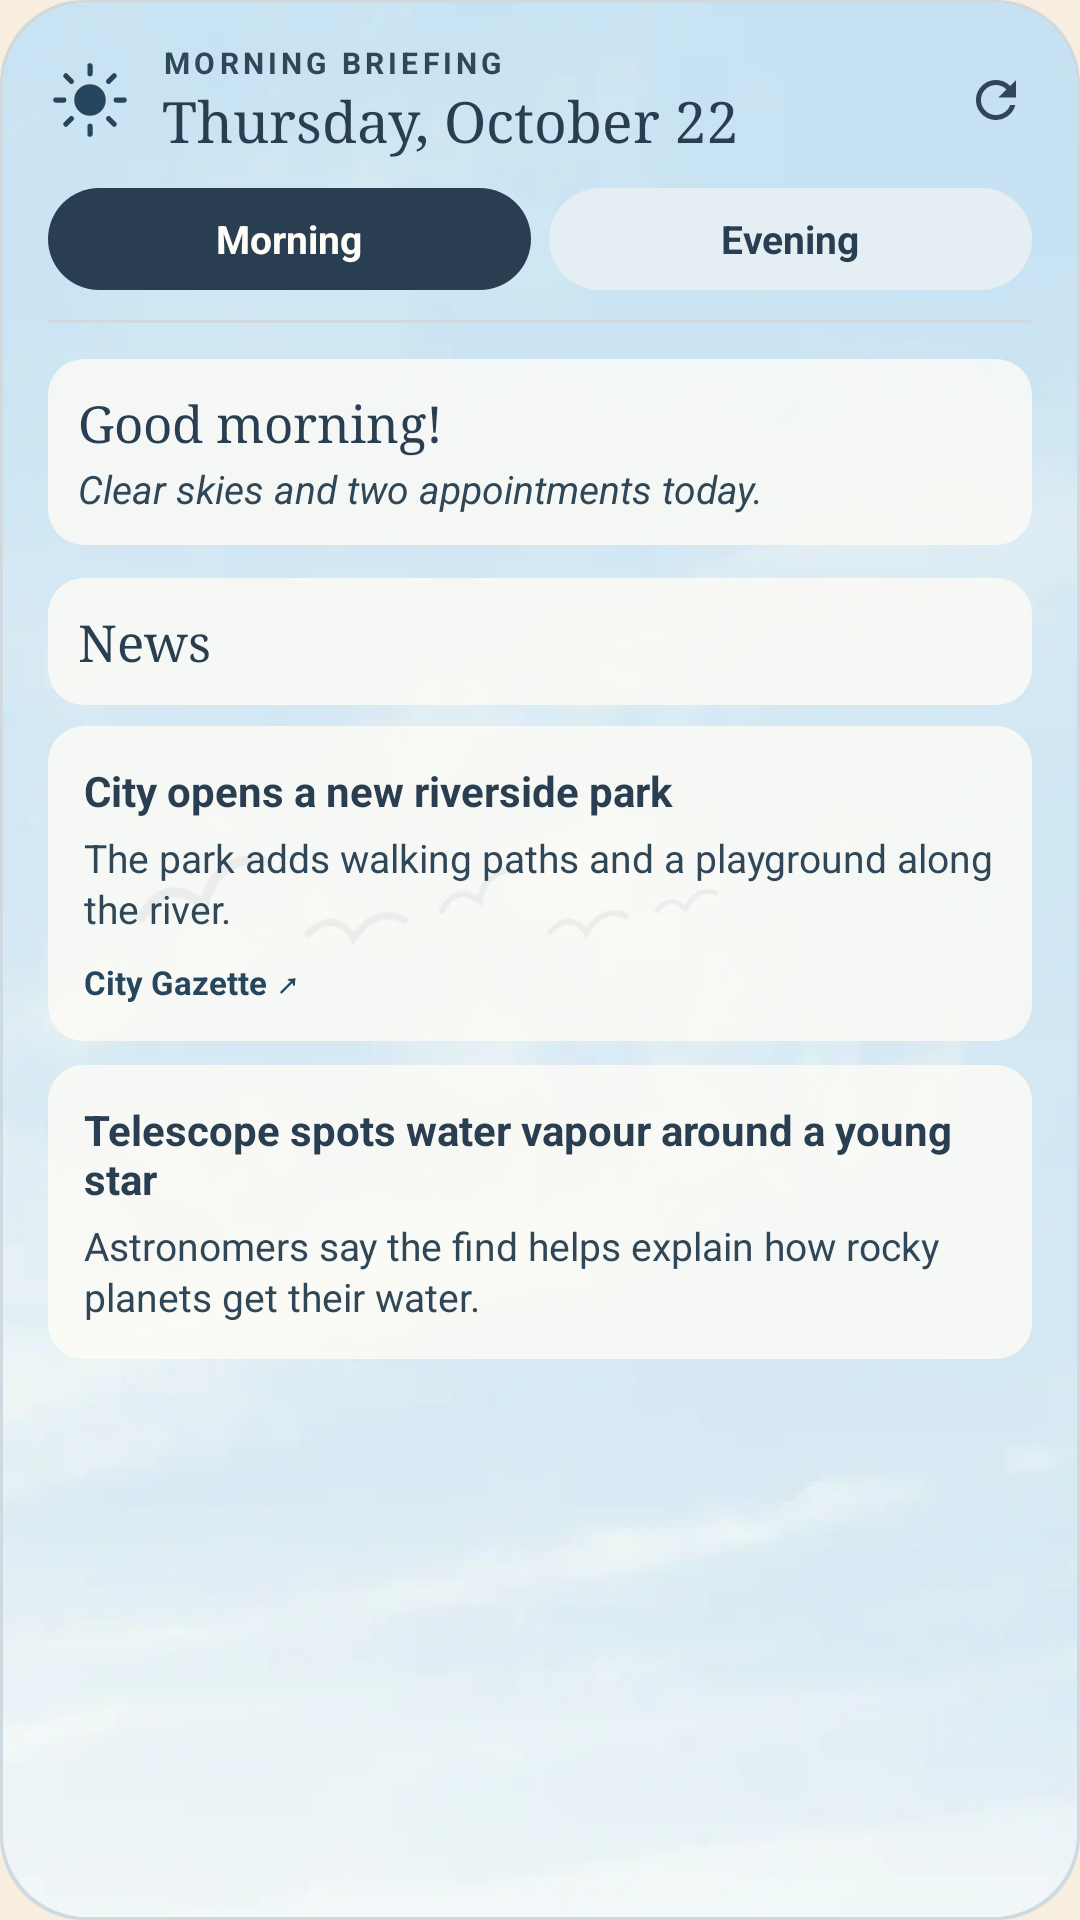

Icons on this 1080w x 1920h Android screen, each with the point to tap as [x,y]:
refresh: [996,100]
